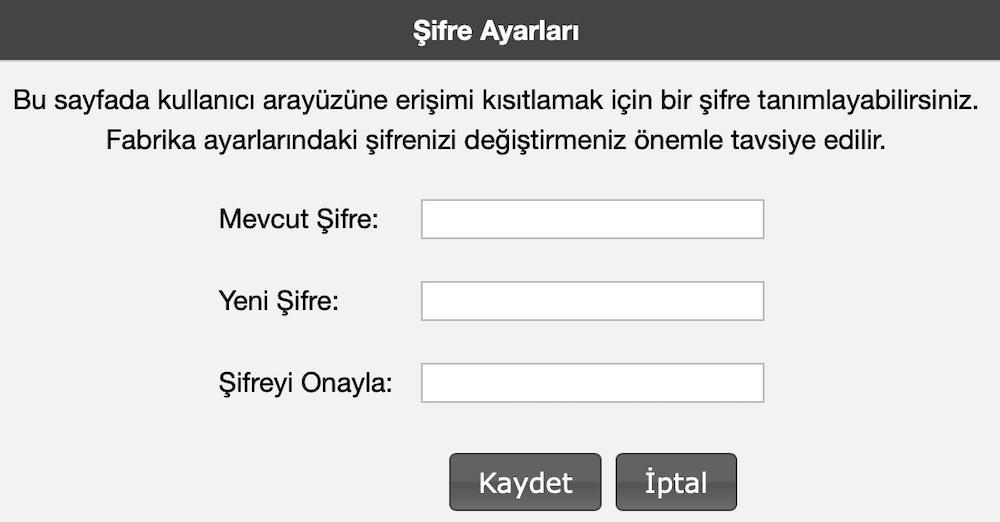button: (449, 453, 605, 512), (617, 452, 739, 511)
input: (422, 363, 767, 405), (422, 281, 767, 322), (423, 200, 767, 238)
label: (217, 361, 399, 405), (405, 10, 590, 53), (211, 205, 385, 244), (214, 280, 345, 324)
